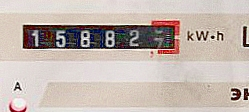1: (28, 27, 41, 46)
2: (127, 27, 140, 46)
5: (53, 27, 66, 48)
7: (152, 35, 164, 49)
8: (78, 27, 91, 48), (103, 28, 116, 49)
screen: (13, 10, 189, 61)
